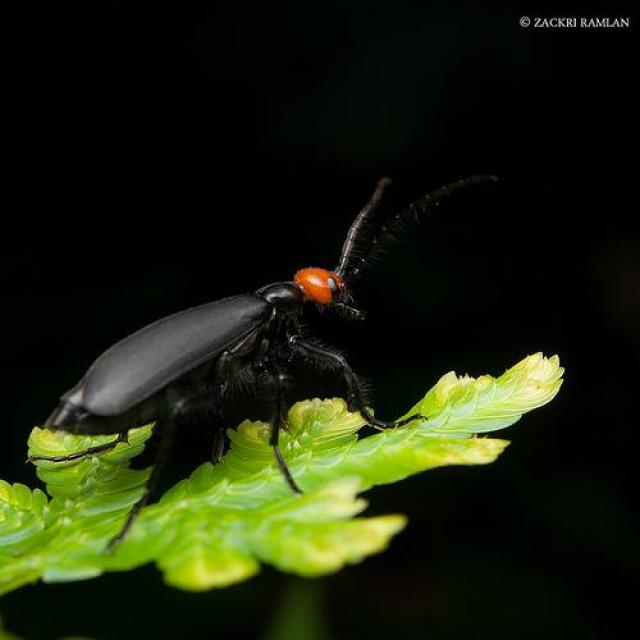BlisterBeetle-Adult-: (36, 176, 418, 482)
